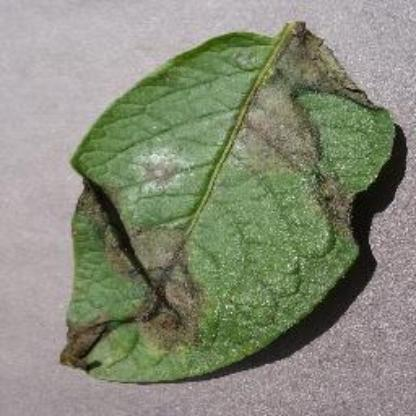Late-Blight: (36, 14, 404, 400)
